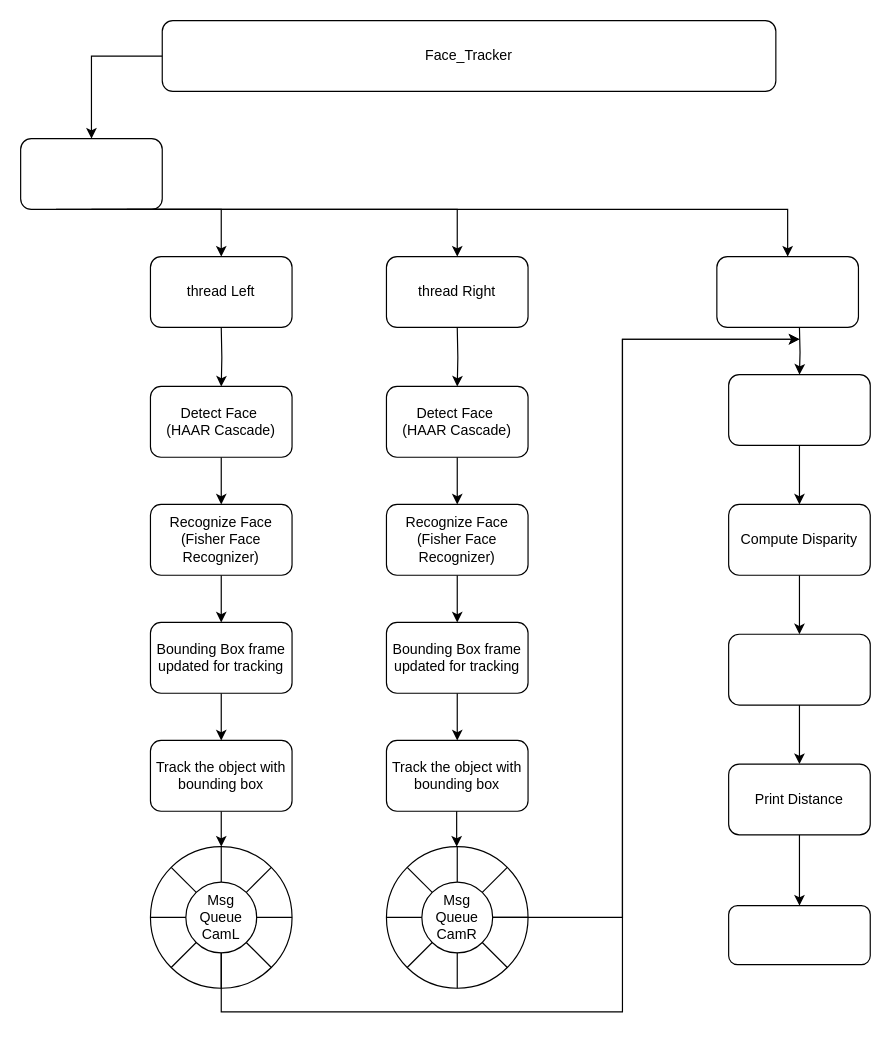
Image size: 891x1042. Some labels were removed from this diagram. The shapes that lost their labels are listed below. From the top down, each one's centre as x and y in pixels, then its label:
At point 90,173: "Main Thread".
At point 787,291: "Distance Estimation thread".
At point 798,409: "Stereo Image Rectification of left and right images cv::remap()".
At point 798,669: "Compute Depth".
At point 798,934: "Warning For Invasion".
